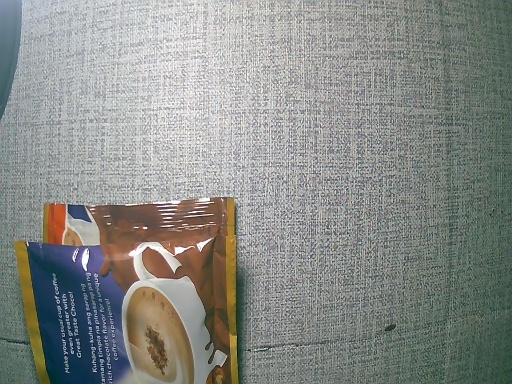plastic: (15, 191, 250, 384)
